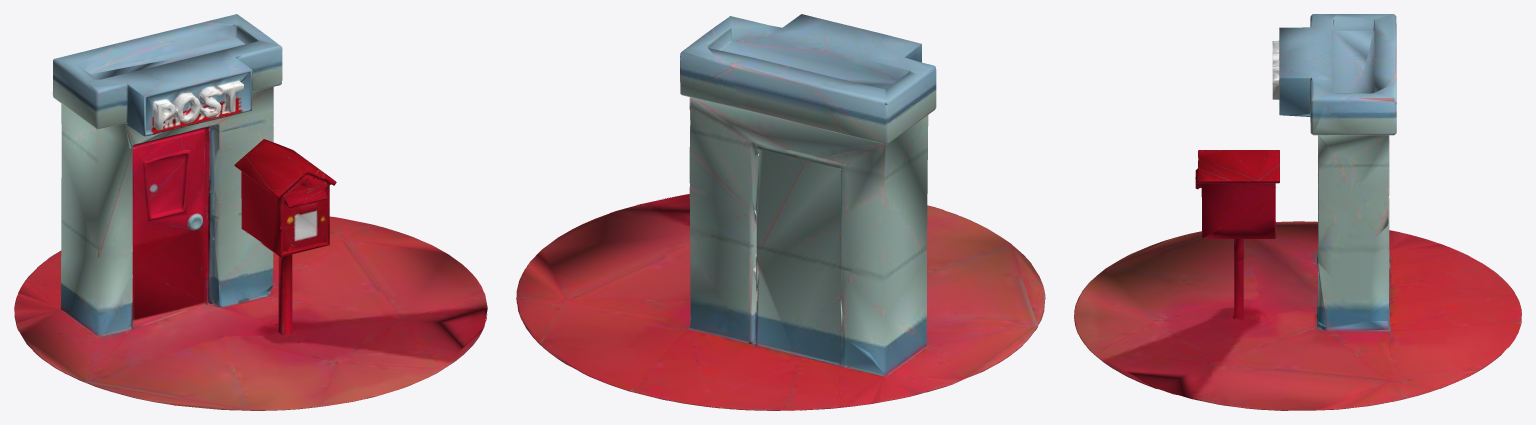
The model's file is post_office.glb.
3 views of the same model, side by side, from view 1: azimuth 30°, elevation 25°; view 2: azimuth 150°, elevation 25°; view 3: azimuth 270°, elevation 25° (orthographic). The views are drawn at different scales.
Bounding box in the file's own units: 1.91 × 1.11 × 1.91.
1 material, 1 textured.
